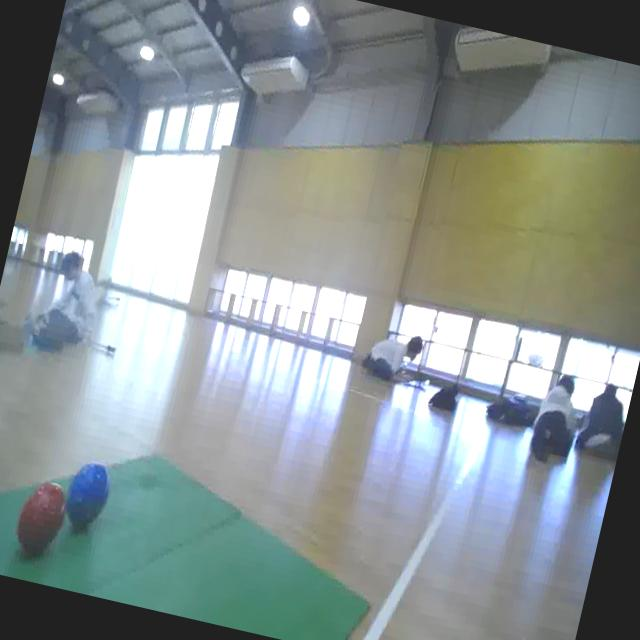blue_ball: (58, 451, 116, 536)
red_ball: (11, 473, 74, 566)
